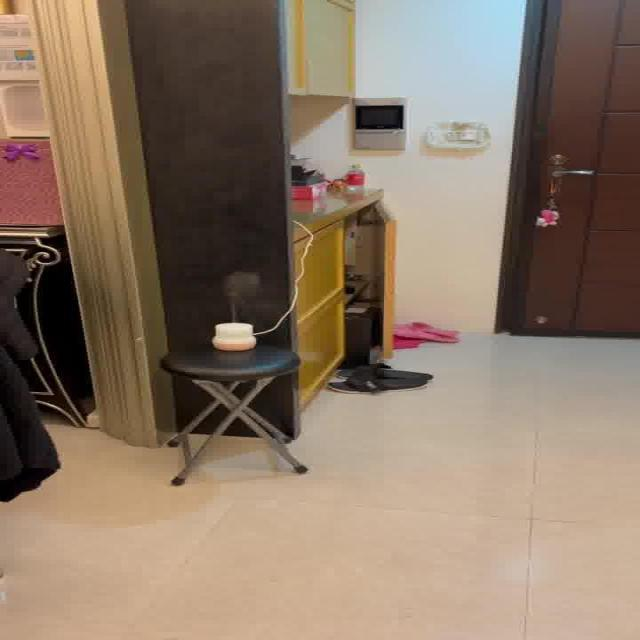fire: (211, 270, 265, 316)
